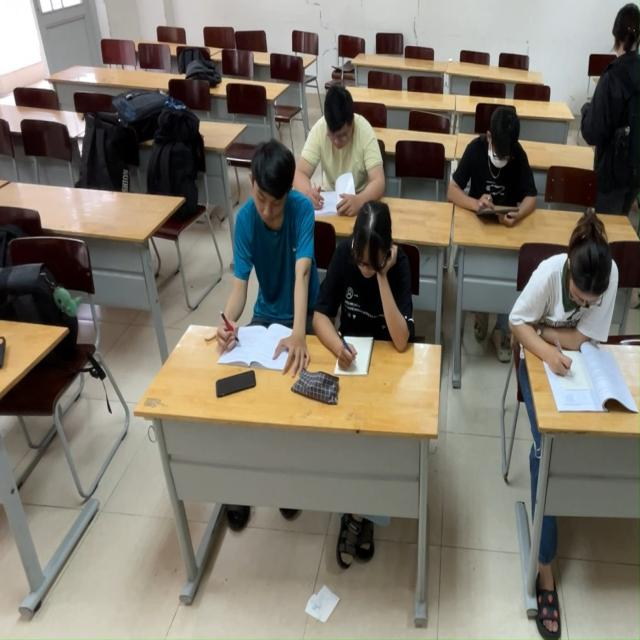read: (206, 136, 331, 393), (503, 216, 640, 429), (310, 183, 437, 399), (450, 116, 532, 245), (304, 84, 377, 216)
